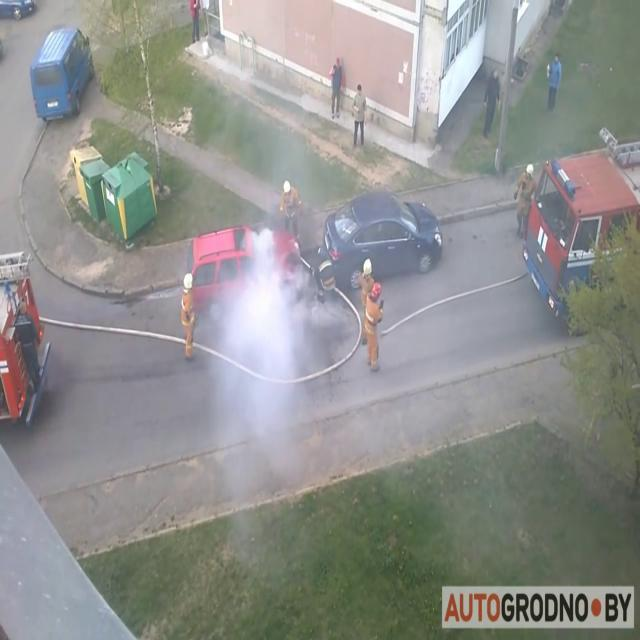Smoke: (200, 32, 334, 587)
